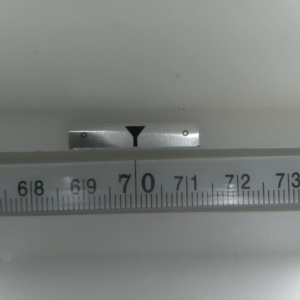0: (141, 173, 154, 192)
2: (241, 174, 250, 189)
3: (290, 172, 300, 188)
6: (69, 178, 80, 194), (17, 180, 28, 196)
7: (117, 173, 131, 193), (274, 173, 284, 188), (174, 176, 183, 191), (225, 174, 234, 188)
8: (33, 179, 43, 195)
9: (86, 178, 97, 194)
finger: (123, 126, 145, 148)
